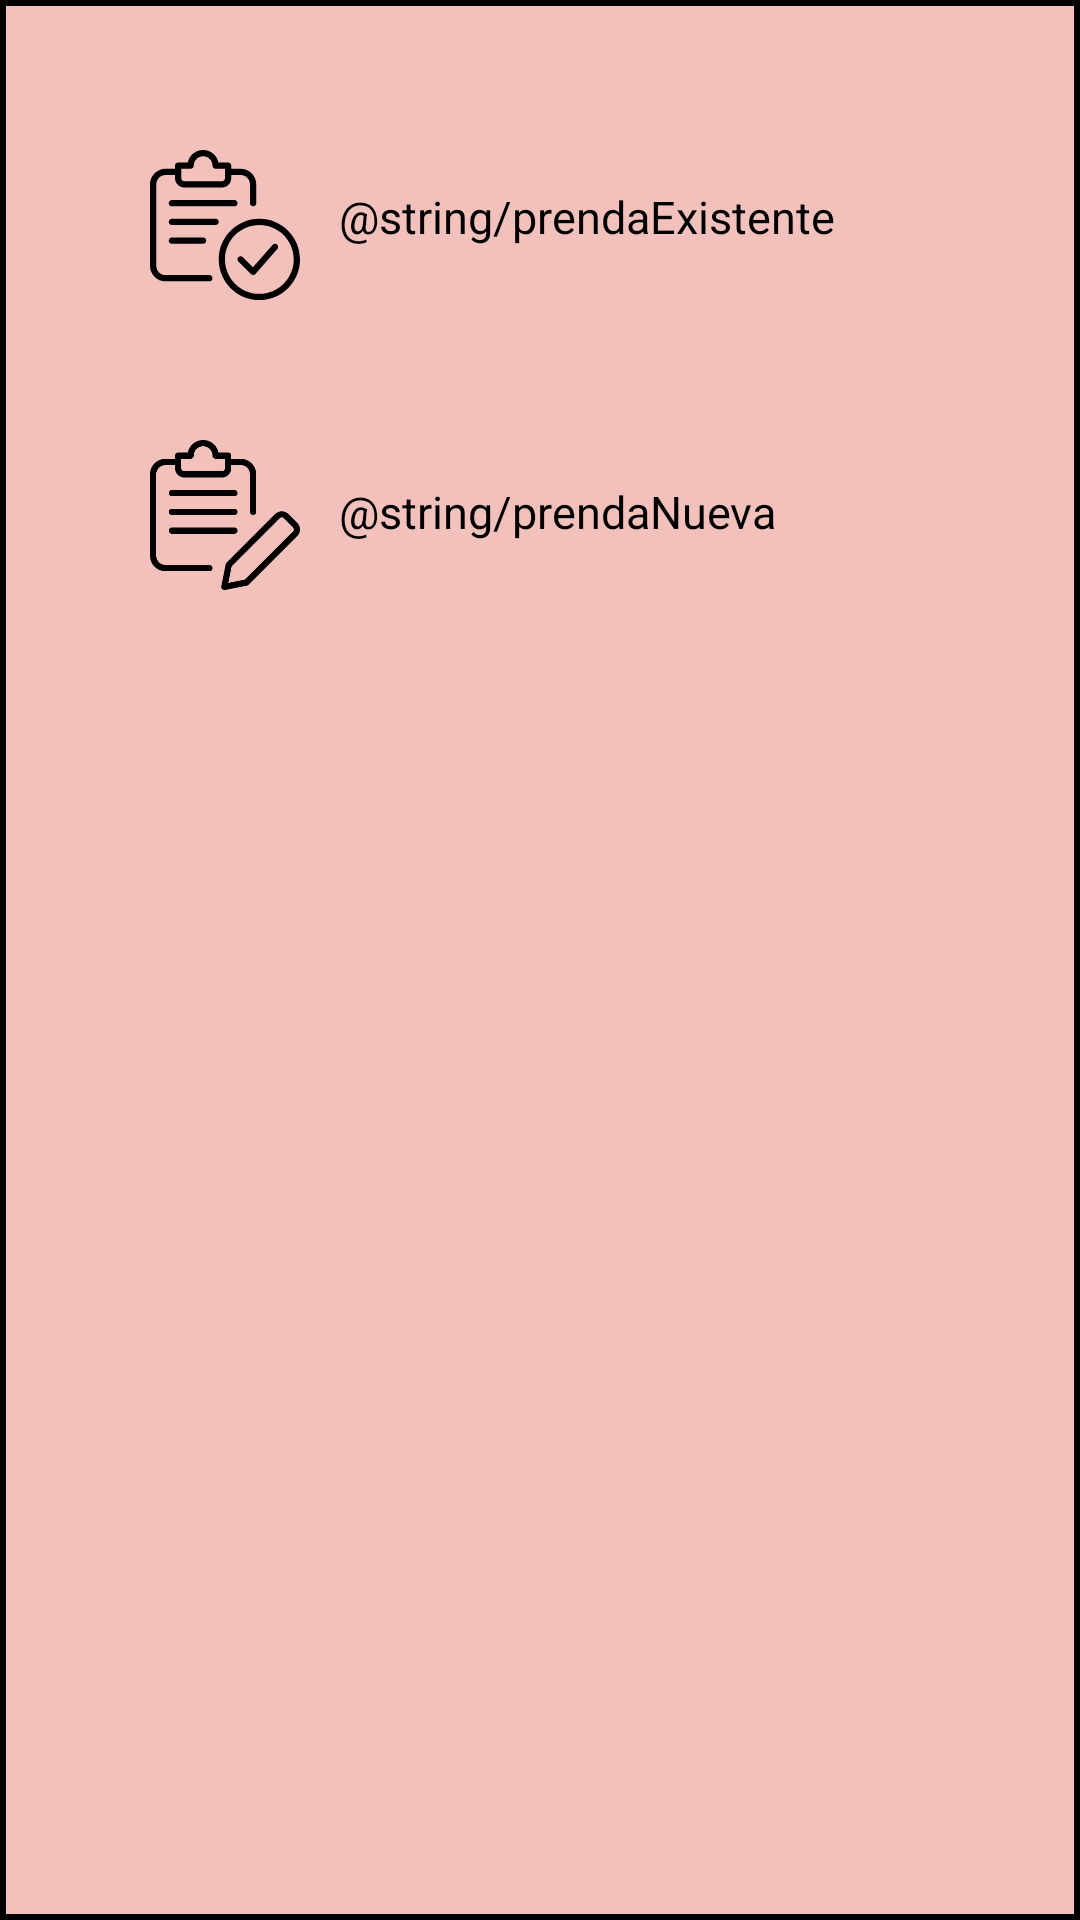

Where to tap for icons on this 1080x1920 app screen, as (x=x, y=y):
editar: (x=225, y=515)
verificar: (x=225, y=225)
